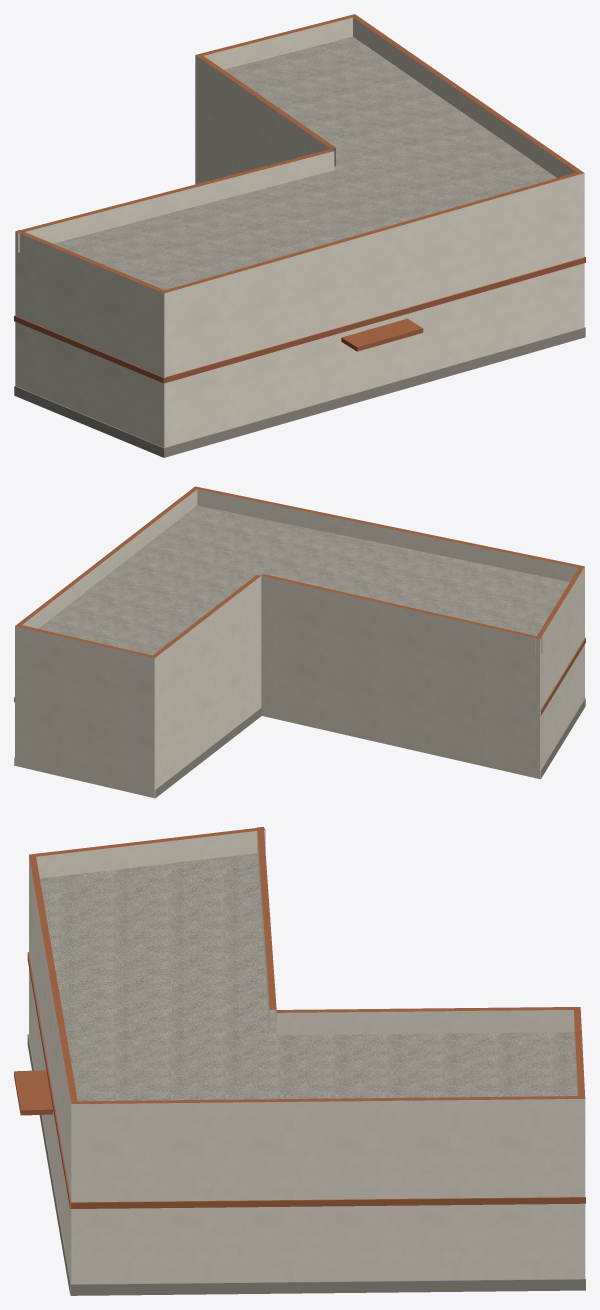
3 views of the same model, one above another, from view 1: azimuth 30°, elevation 25°; view 2: azimuth 150°, elevation 25°; view 3: azimuth 270°, elevation 25° (orthographic). The views are drawn at different scales.
Visible parts, largest first — view 1: B-w1267129653_lejos, B-w1267129653_muros, B-w1267129653_cubierta, B-w1267129653_molduras, B-w1267129653_remates; view 2: B-w1267129653_lejos, B-w1267129653_muros, B-w1267129653_cubierta, B-w1267129653_molduras; view 3: B-w1267129653_lejos, B-w1267129653_muros, B-w1267129653_cubierta, B-w1267129653_molduras, B-w1267129653_remates.
Part boxes in pixels (x1,y1,x2,y2): B-w1267129653_lejos: (15, 36, 584, 435); B-w1267129653_muros: (15, 55, 584, 456); B-w1267129653_cubierta: (15, 14, 583, 293); B-w1267129653_molduras: (14, 256, 585, 457); B-w1267129653_remates: (341, 318, 423, 351); B-w1267129653_lejos: (15, 505, 576, 797); B-w1267129653_muros: (15, 566, 584, 798); B-w1267129653_cubierta: (15, 486, 584, 658); B-w1267129653_molduras: (14, 637, 585, 798); B-w1267129653_lejos: (38, 853, 576, 1291); B-w1267129653_muros: (29, 856, 585, 1283); B-w1267129653_cubierta: (29, 827, 585, 1104); B-w1267129653_molduras: (27, 952, 585, 1295); B-w1267129653_remates: (14, 1070, 53, 1115).
Size of the model in its own units: 24.03 by 7.7 by 20.87.
Materials: 5 (2 with a texture image).
